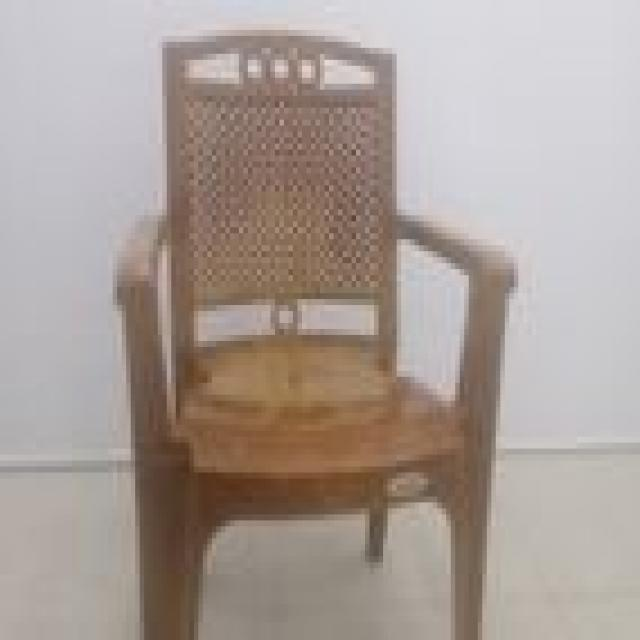others: (99, 6, 541, 634)
